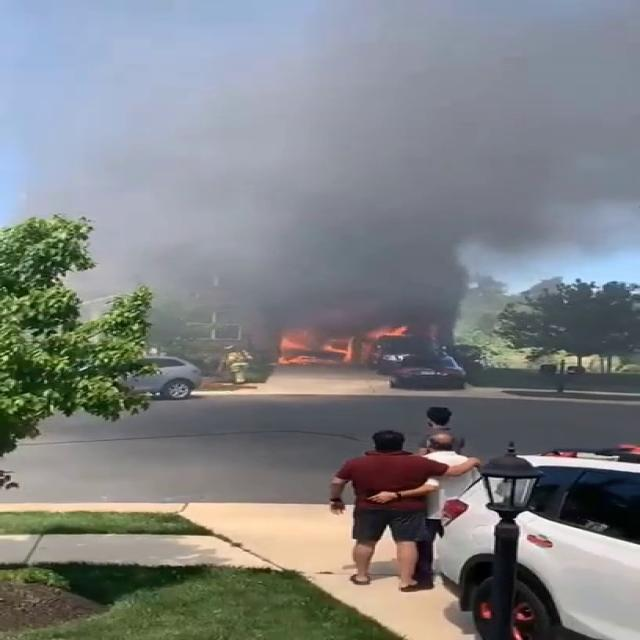Smoke: (42, 0, 637, 342)
